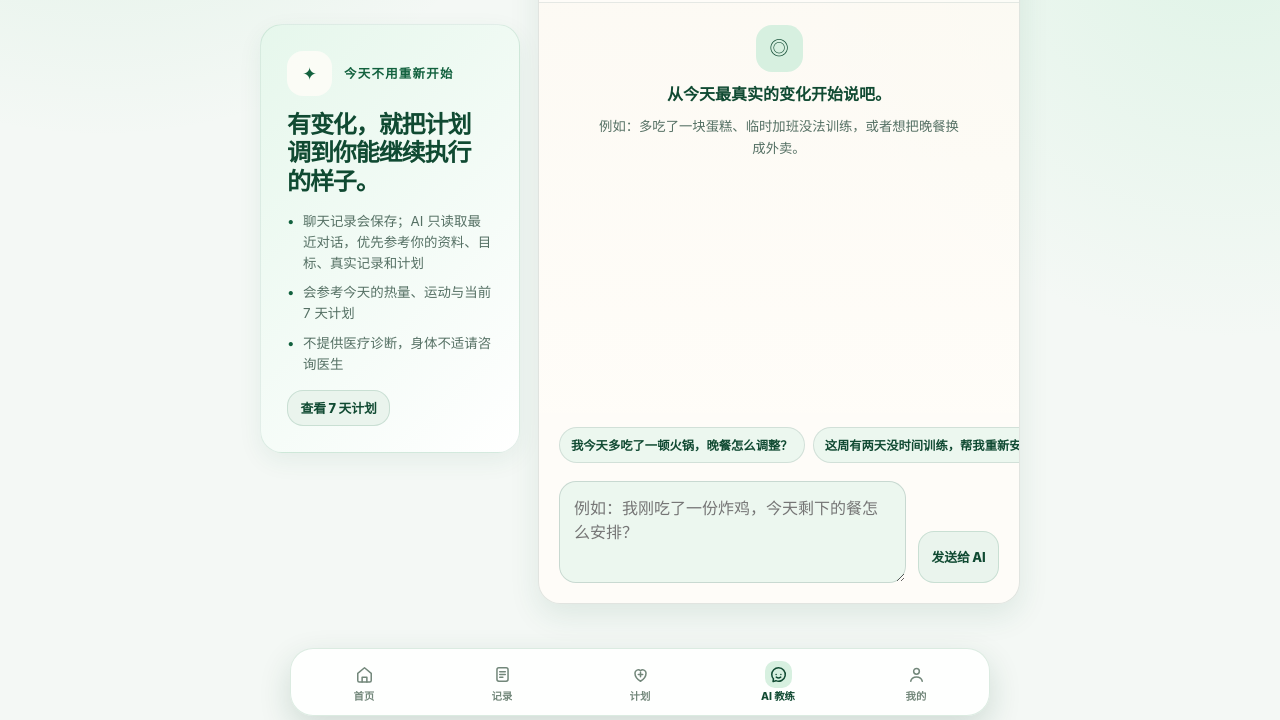
Scenario: CoachPage › uses persisted server timestamps after sending a message
The width and height of the screenshot is (1280, 720).
(page scrolled)
Check: the text "从今天最真实的变化开始说吧。" is shown, box [667,81,891,107]
In the text box named "告诉 AI 教练你的变化": (733, 532) [559,481,906,583], type "A server-timed message"
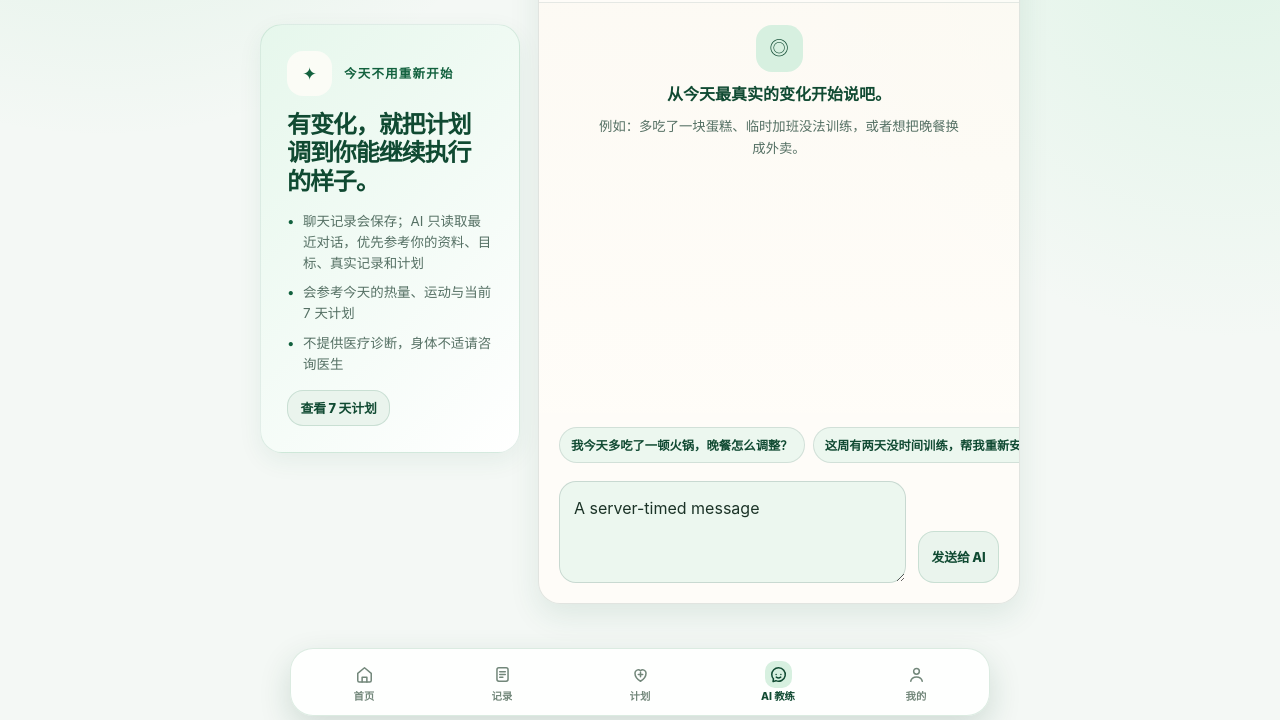
Click the button "发送给 AI": (959, 557) [918,531,999,583]
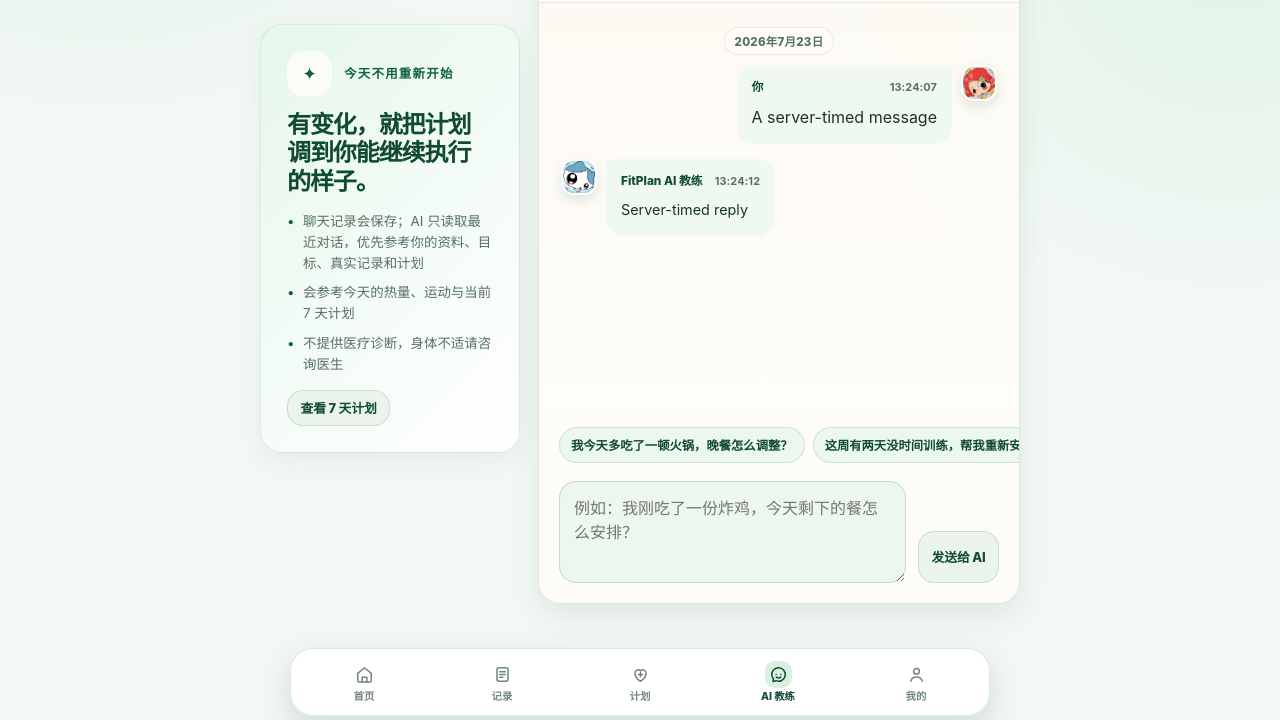
Check: the text "Server-timed reply" is shown, box [621,198,760,223]
